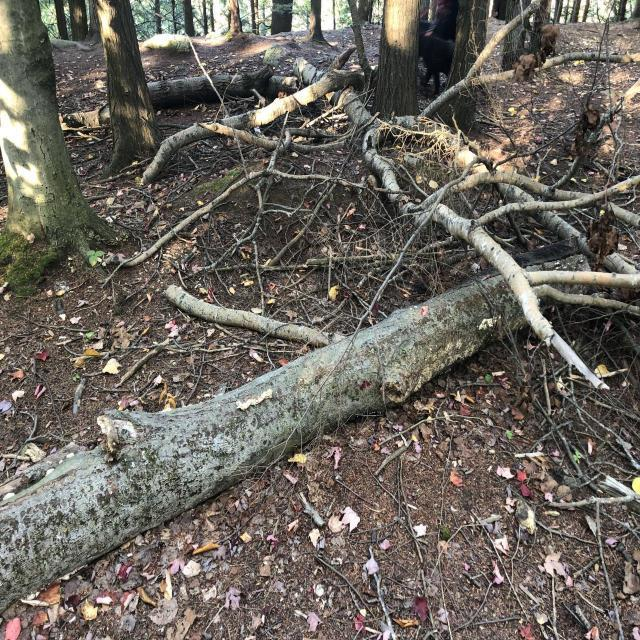fallen_object: (2, 248, 630, 560), (264, 41, 440, 201), (145, 80, 363, 192), (121, 48, 341, 104)
